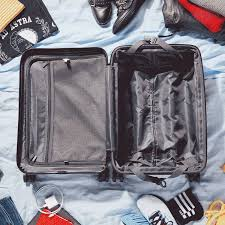suitcase: (14, 39, 210, 181)
